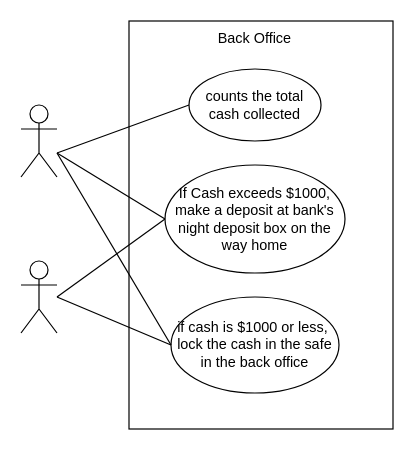
This 414x450 diagram has some shape labels left out. The centre of each missing label's shape, as x and y in pixels:
"Bev" goes at (x=38, y=140).
"Bob" goes at (x=38, y=296).
